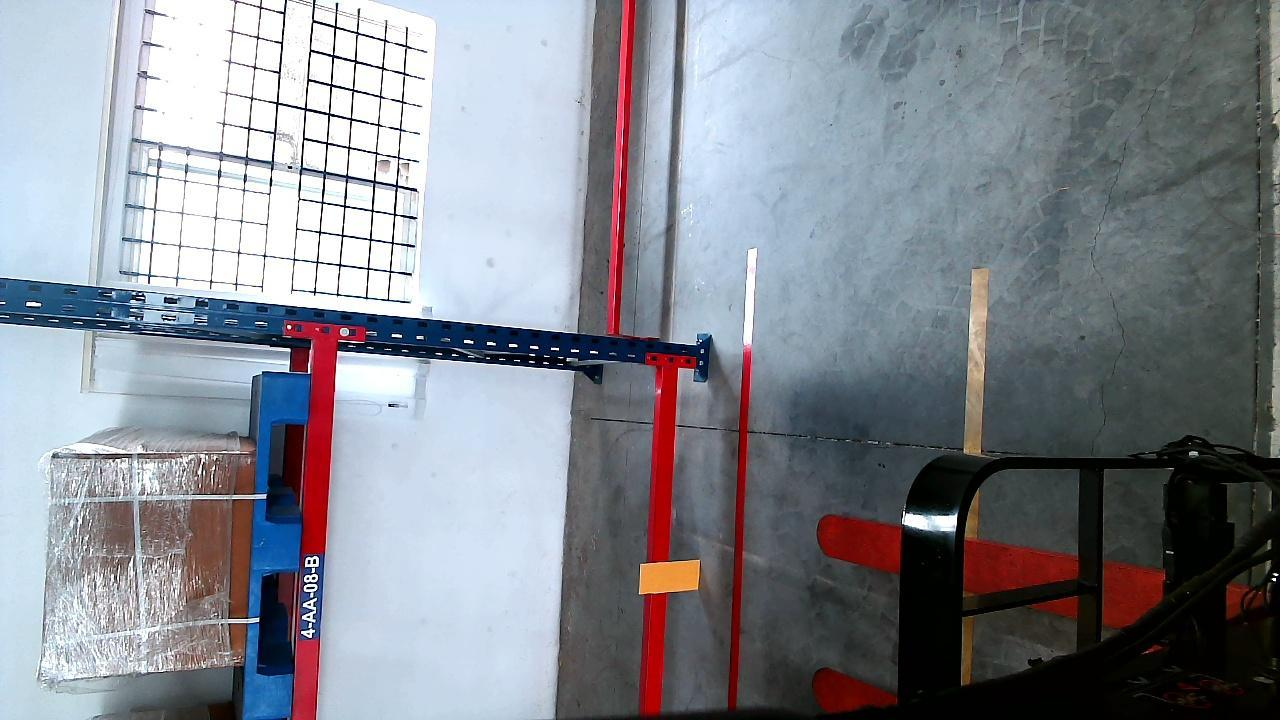red_line: (727, 249, 761, 710)
yellow_line: (960, 268, 988, 684)
